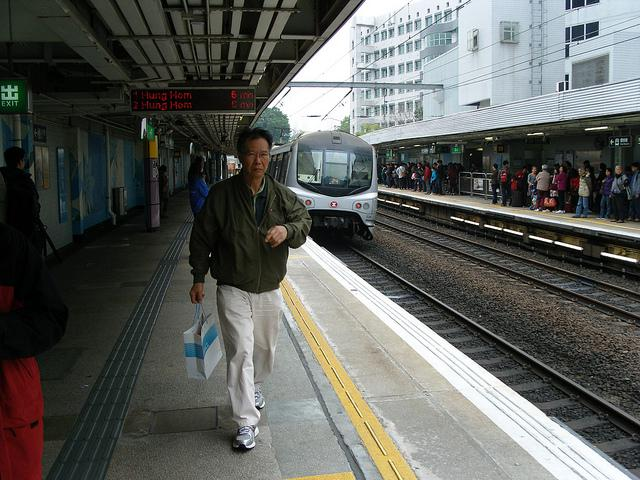Train: (268, 130, 382, 245)
